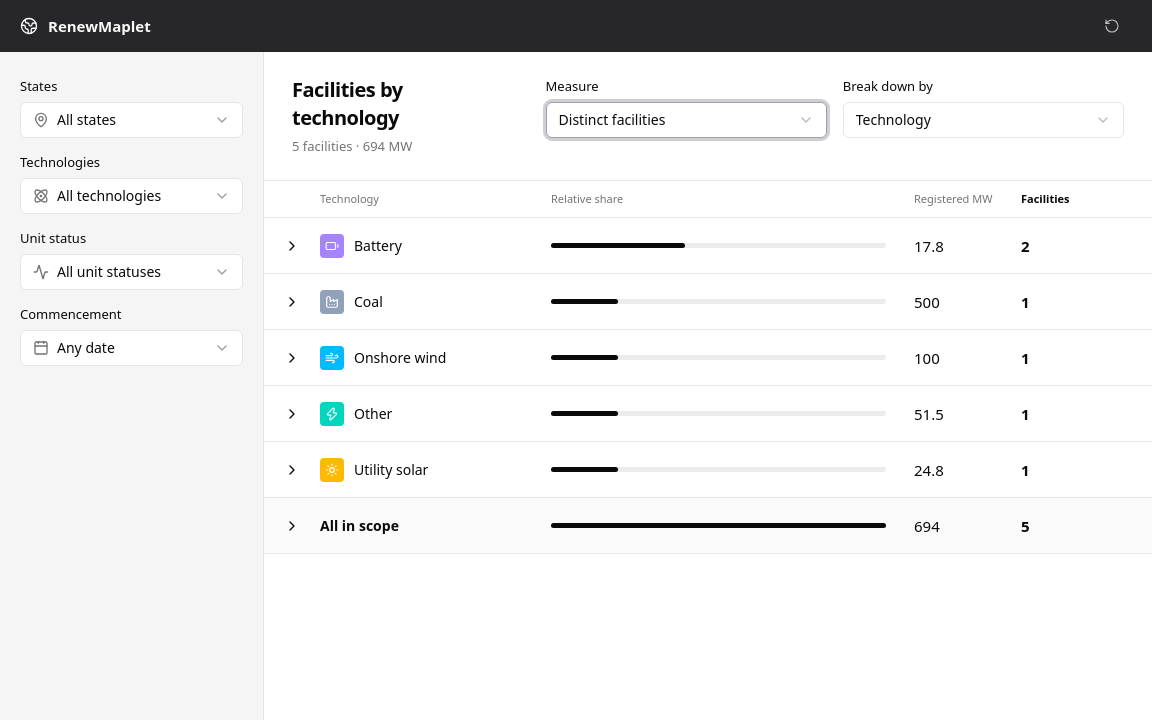
it: changing the measure retitles without changing the row set
Press Arrowdown
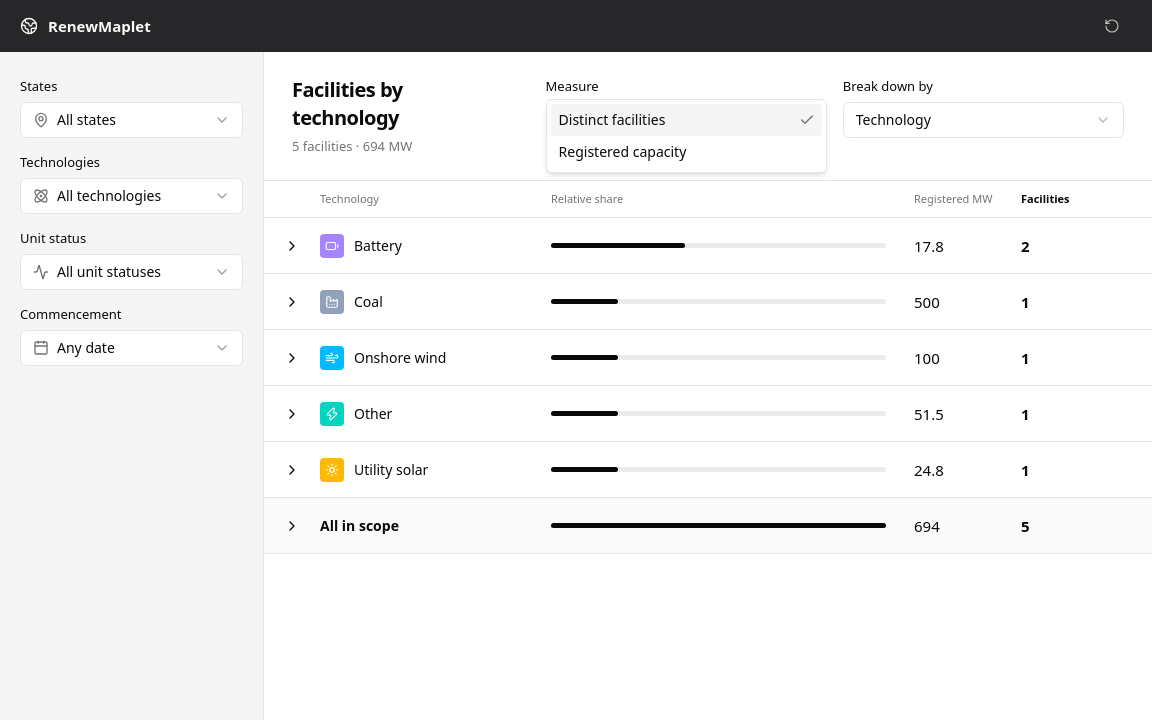
Click the option "Registered capacity": {"x": 622, "y": 152} [559, 142, 686, 161]
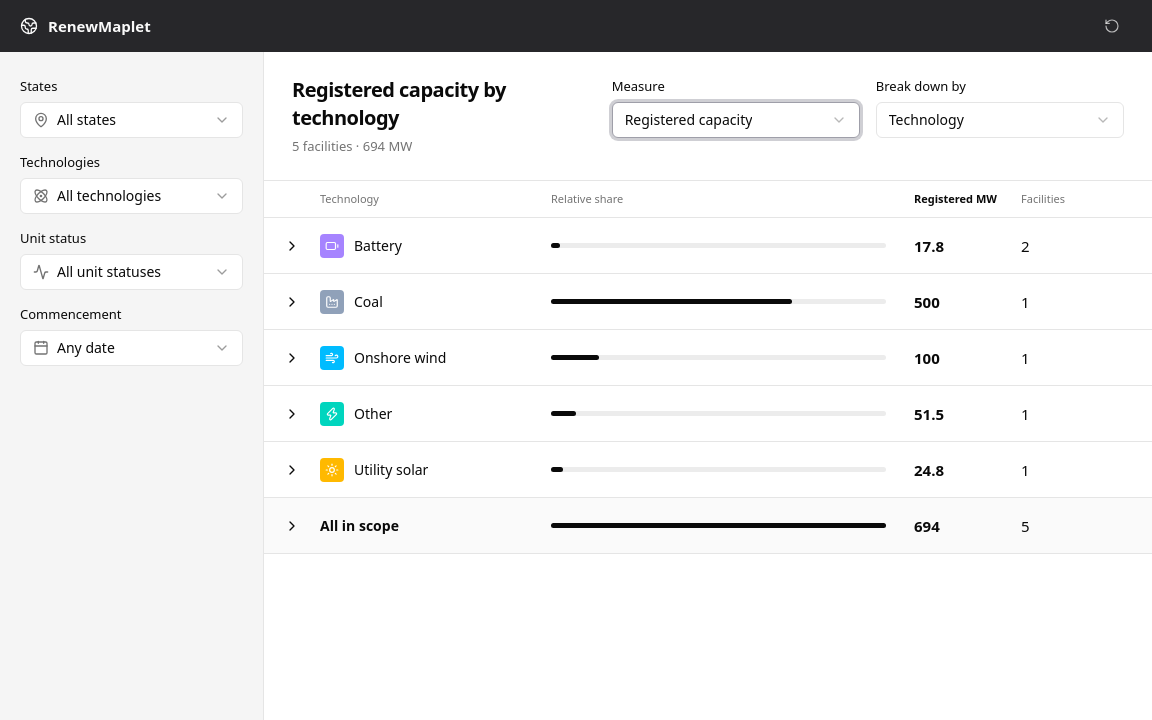
Check: the heading "Registered capacity by technology" is shown, box [292, 76, 506, 131]
